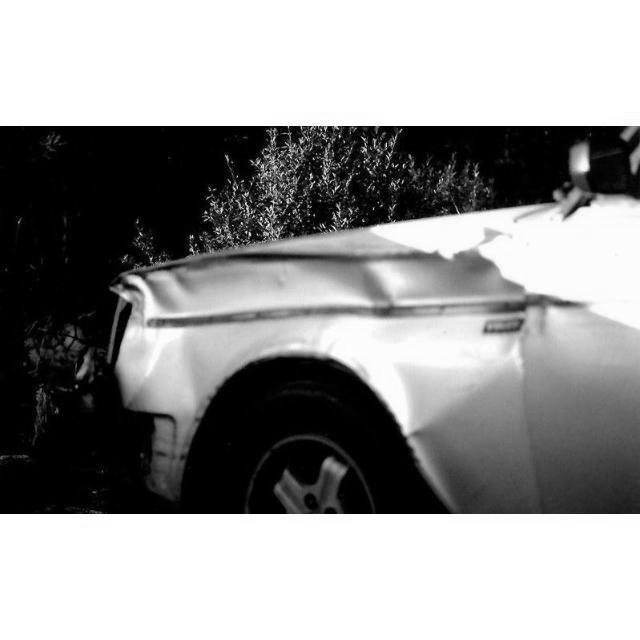fender-dent: (105, 233, 625, 486)
